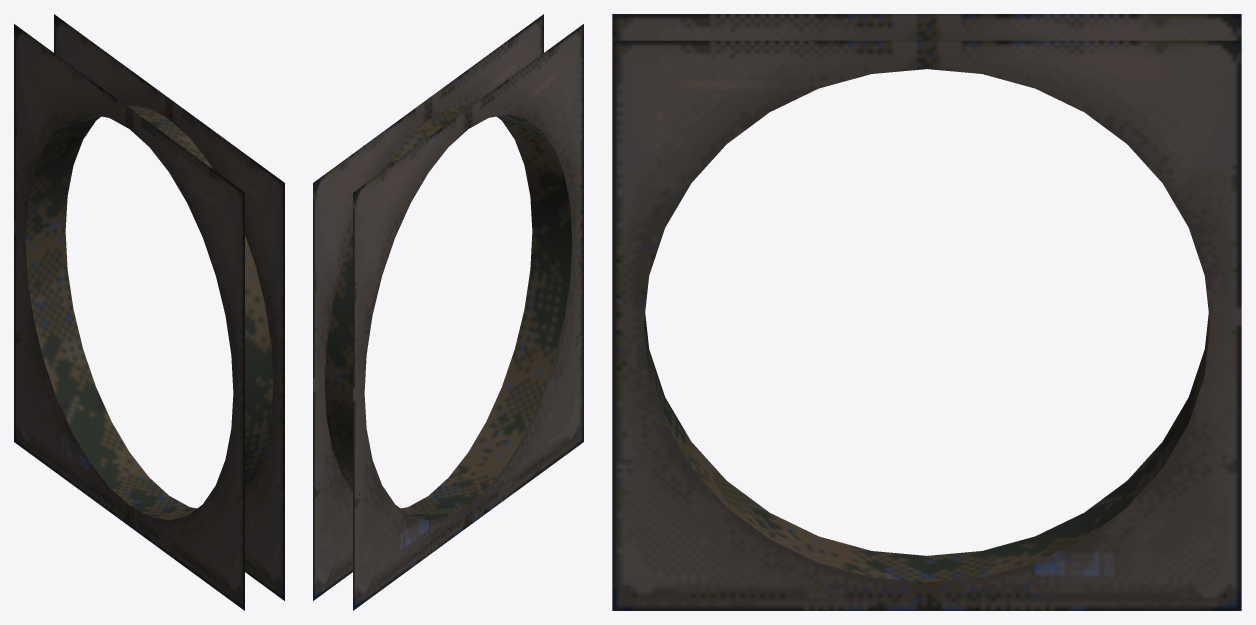
The model's file is fan_casing.fbx.
3 renders of one model, left to right at view 1: azimuth 30°, elevation 25°; view 2: azimuth 150°, elevation 25°; view 3: azimuth 270°, elevation 25°, orthographic. The views are drawn at different scales.
Visible parts, largest first — view 1: casing; view 2: casing; view 3: casing.
Part boxes in pixels (x1,y1,x2,y2): casing: [14, 14, 284, 610]; casing: [313, 14, 583, 610]; casing: [612, 14, 1241, 610].
Bounding box in the file's own units: 20 × 200 × 200.
